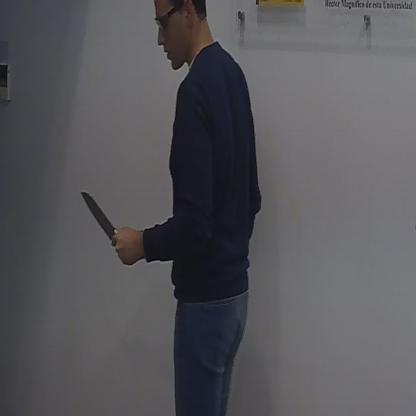knife: (78, 187, 126, 260)
